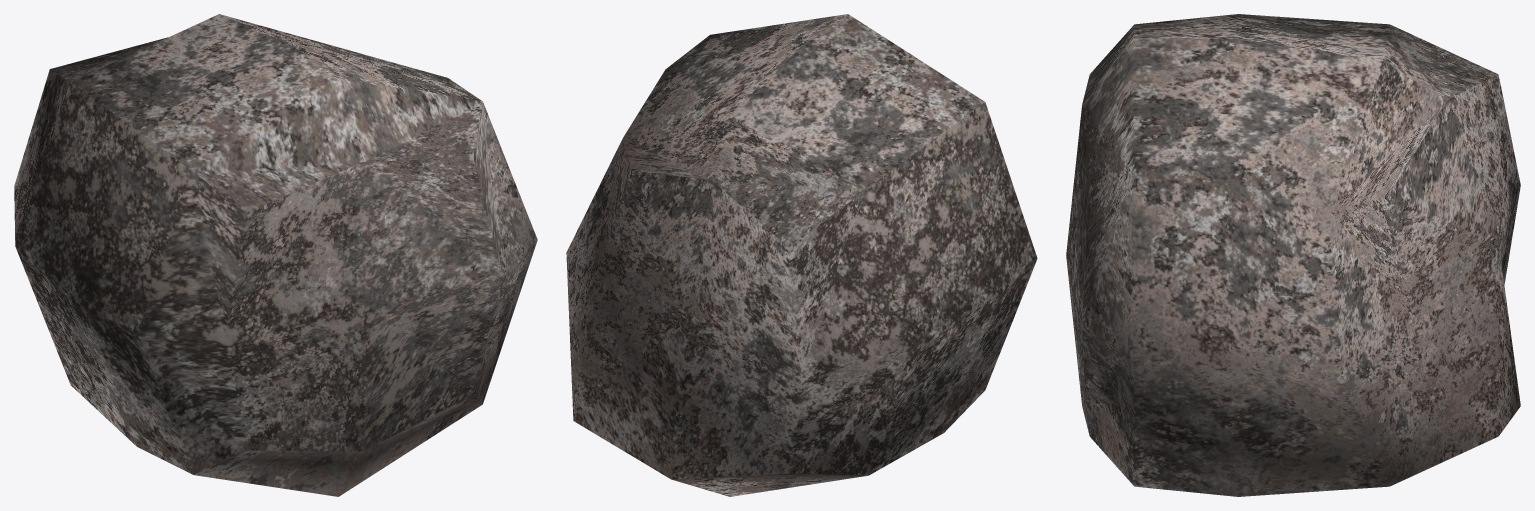
The model's file is pedra.glb.
3 views of the same model, side by side, from view 1: azimuth 30°, elevation 25°; view 2: azimuth 150°, elevation 25°; view 3: azimuth 270°, elevation 25° (orthographic). The views are drawn at different scales.
Parts seen in each view (by area): view 1: Cube; view 2: Cube; view 3: Cube.
Boxes of the visible parts, x1,y1,x2,y2 form: Cube: [14, 14, 537, 496]; Cube: [566, 14, 1037, 496]; Cube: [1066, 14, 1520, 496].
Bounding box in the file's own units: 1.83 × 1.79 × 1.67.
1 material, 1 textured.
